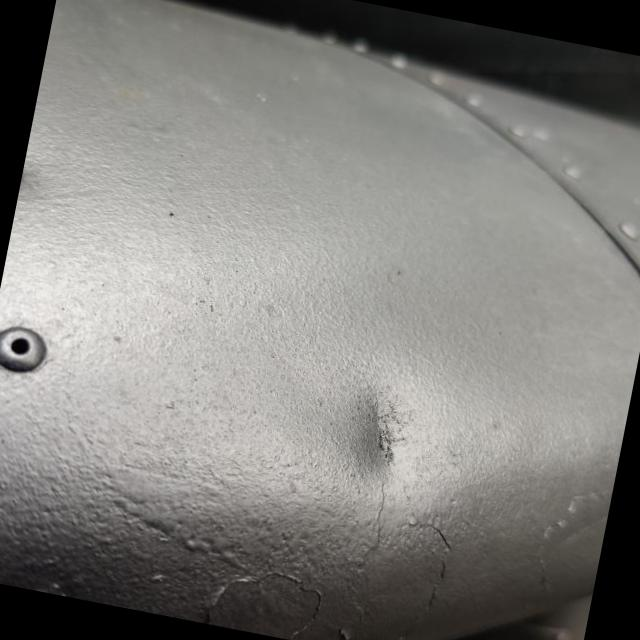Dent: (298, 353, 469, 527)
